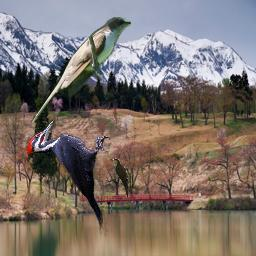Cuckoo: (30, 17, 131, 125), (110, 158, 129, 197)
Woodpecker: (26, 119, 110, 237)
